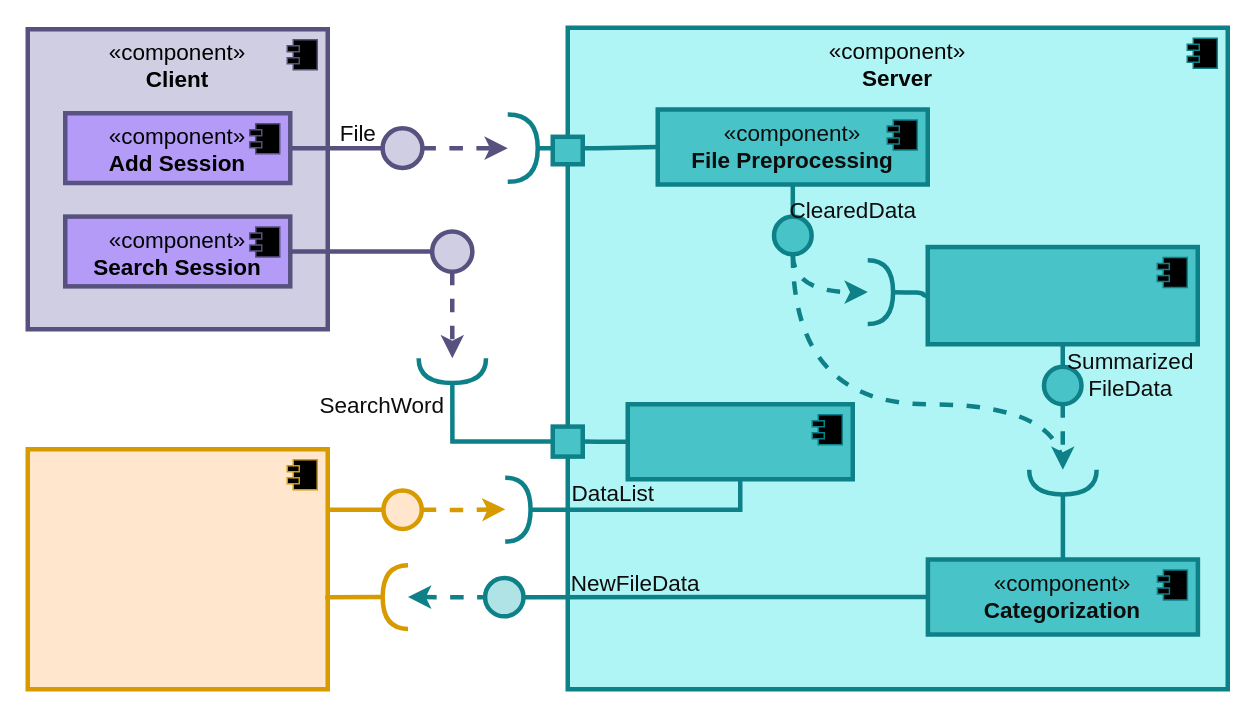
Image size: 1256x717. Some labels were removed from this diagram. The shapes that lost their labels are listed below. From the top down, each one's box as (x1, y1, x2, y2) in pixels, then its label:
(925, 244, 1199, 346): «component» File description and summarization
(625, 401, 854, 481): «component» Search
(25, 446, 329, 691): «component» DataBase
